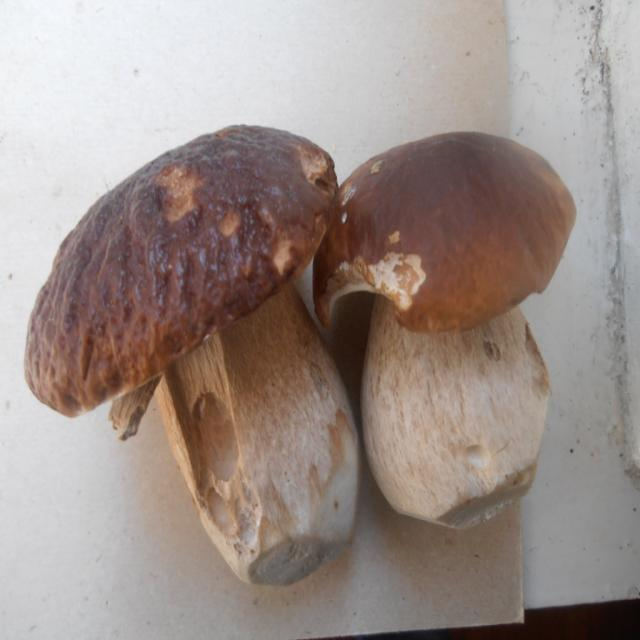Boletus: (22, 124, 360, 602), (312, 137, 577, 536)
